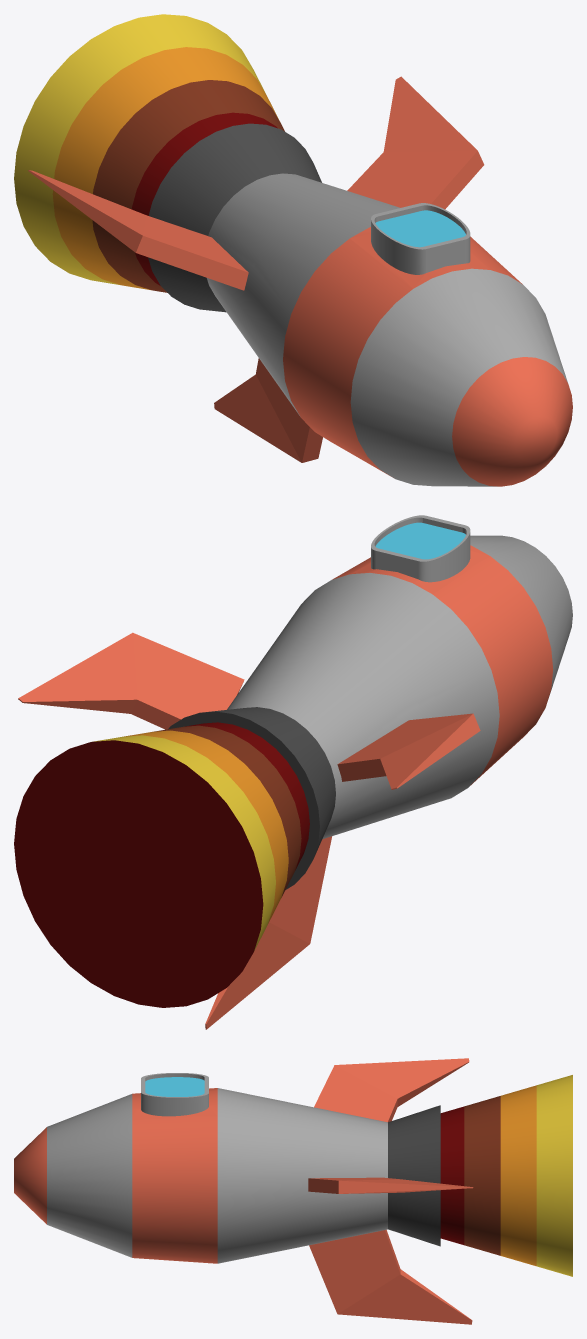
The picture shows the model from 3 angles, top to bottom: view 1: azimuth 30°, elevation 25°; view 2: azimuth 150°, elevation 25°; view 3: azimuth 270°, elevation 25°; orthographic projection. The views are drawn at different scales.
Parts seen in each view (by area): view 1: Cylinder, Cube.001, Cube, Cube.002; view 2: Cylinder, Cube.001, Cube.002, Cube; view 3: Cylinder, Cube.002, Cube, Cube.001.
Part boxes in pixels (x1,y1,x2,y2): Cylinder: (14,14,572,486); Cube.001: (347,76,484,209); Cube: (28,170,248,290); Cube.002: (214,358,322,462); Cylinder: (14,515,572,1007); Cube.001: (18,632,244,729); Cube.002: (205,836,331,1029); Cube: (337,713,480,789); Cylinder: (14,1073,572,1276); Cube.002: (309,1229,472,1324); Cube: (314,1058,469,1122); Cube.001: (308,1177,473,1193).
Size of the model in its own units: 1.09 by 0.9363 by 1.99.
